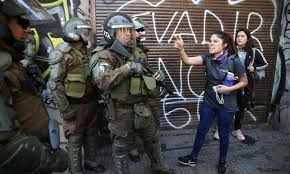gun: (103, 36, 182, 97)
uniform: (93, 43, 167, 167), (43, 43, 95, 167), (1, 51, 53, 168)
